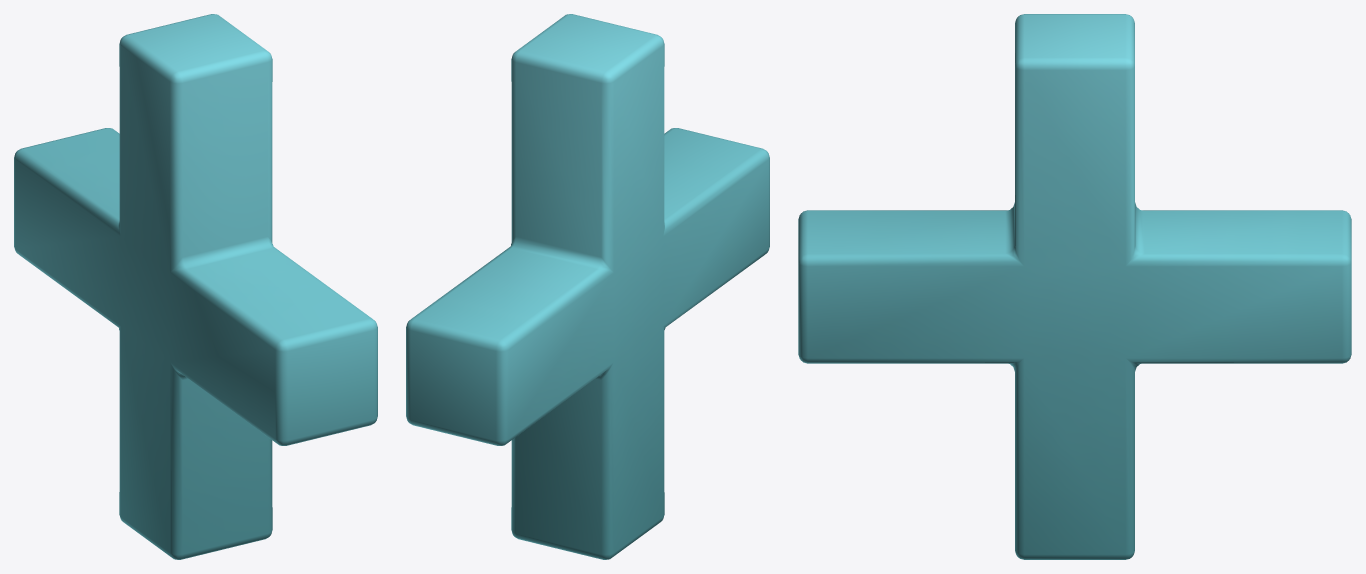
File: Heal.fbx
The picture shows the model from 3 angles, left to right: view 1: azimuth 30°, elevation 25°; view 2: azimuth 150°, elevation 25°; view 3: azimuth 270°, elevation 25°; orthographic projection. The views are drawn at different scales.
Visible parts, largest first — view 1: Heal; view 2: Heal; view 3: Heal.
Boxes of the visible parts, left/top/right/bottom form: Heal: left=14, top=14, right=377, bottom=559; Heal: left=406, top=14, right=769, bottom=559; Heal: left=798, top=14, right=1351, bottom=559.
Size of the model in its own units: 0.3738 by 1.72 by 1.72.
